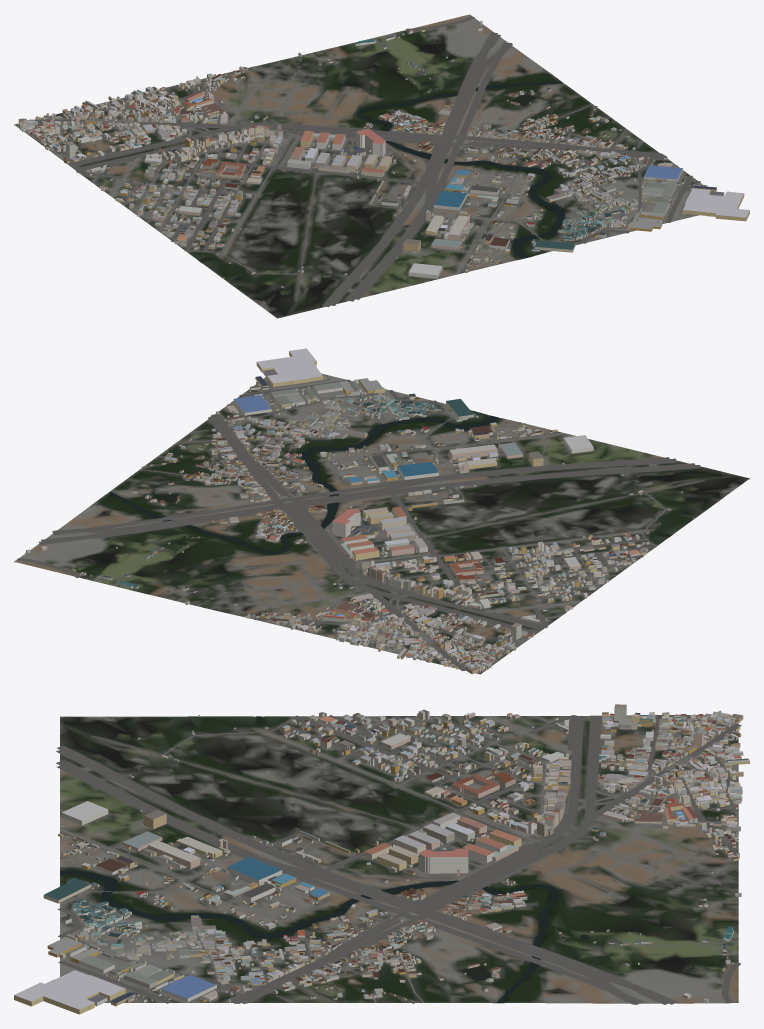
3 renders of one model, top to bottom at view 1: azimuth 30°, elevation 25°; view 2: azimuth 150°, elevation 25°; view 3: azimuth 270°, elevation 25°, orthographic. The views are drawn at different scales.
Parts seen in each view (by area): view 1: ground, buildings, roads, water; view 2: ground, buildings, roads, water; view 3: ground, buildings, roads, water.
Part boxes in pixels (left/top/right/bottom): ground: left=14, top=14, right=711, bottom=318; buildings: left=18, top=20, right=749, bottom=287; roads: left=18, top=16, right=711, bottom=307; water: left=200, top=39, right=564, bottom=270; ground: left=14, top=373, right=749, bottom=674; buildings: left=26, top=348, right=694, bottom=674; roads: left=17, top=374, right=705, bottom=673; water: left=84, top=415, right=671, bottom=563; ground: left=60, top=715, right=738, bottom=1003; buildings: left=14, top=704, right=749, bottom=1014; roads: left=56, top=714, right=741, bottom=1004; water: left=60, top=716, right=696, bottom=1002.
Size of the model in its own units: 1462 by 43.05 by 1519.
